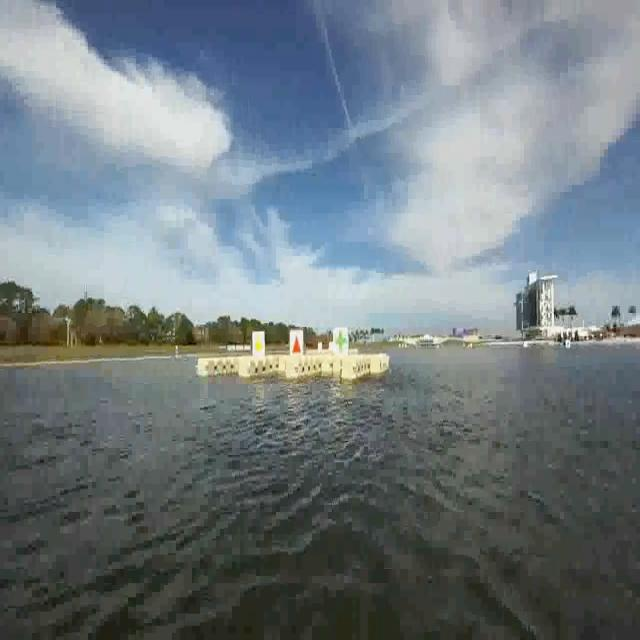blue-cross: (335, 324, 348, 355)
red-dot: (288, 330, 303, 357)
yellow-duck: (252, 332, 265, 359)
